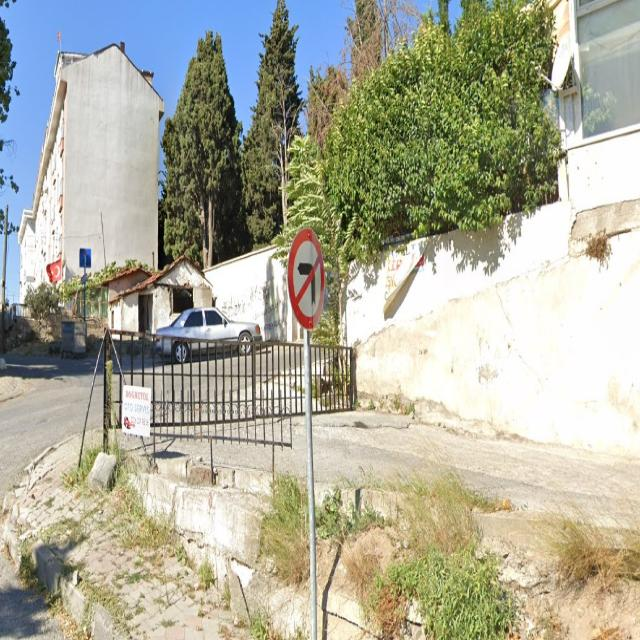soladonulmez: (288, 230, 325, 329)
